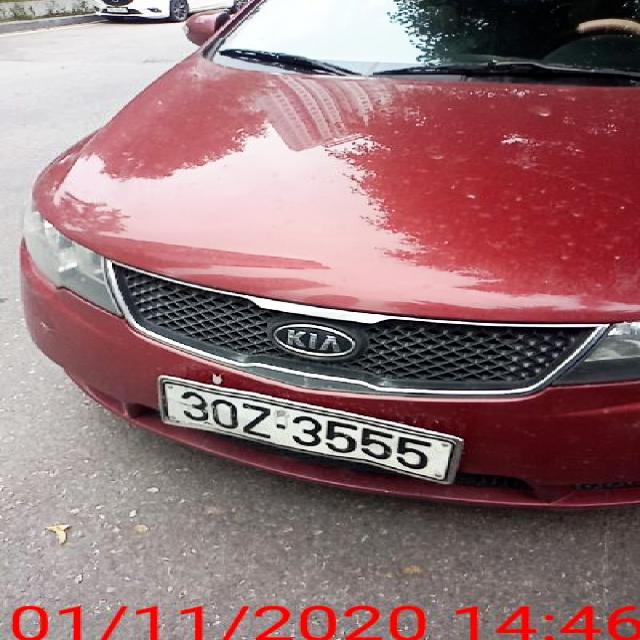license_plate: (160, 378, 455, 481)
